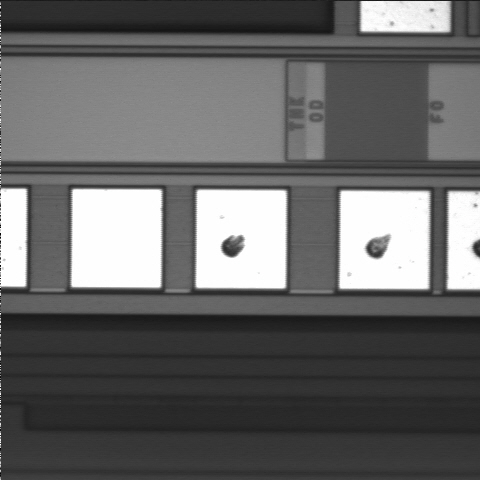pad: (71, 189, 161, 288), (196, 190, 286, 288), (340, 191, 429, 289)
